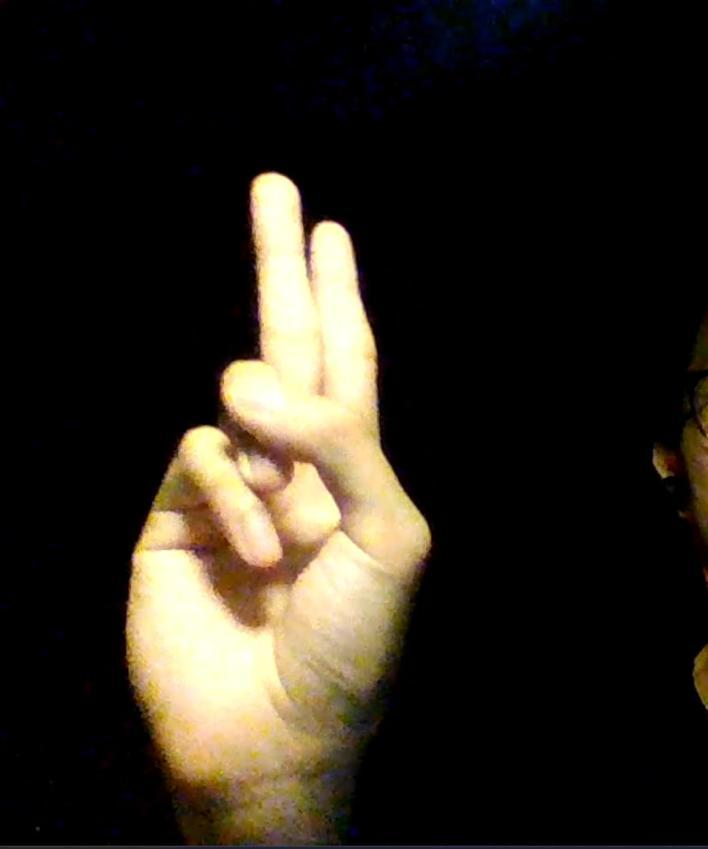u: (124, 170, 433, 779)
